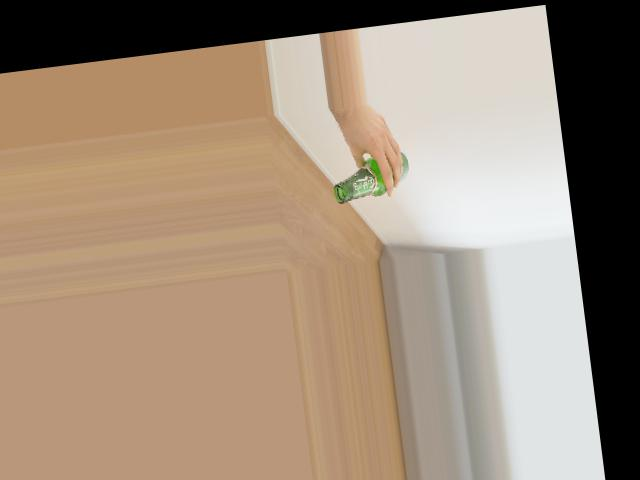beer: (329, 152, 411, 204)
